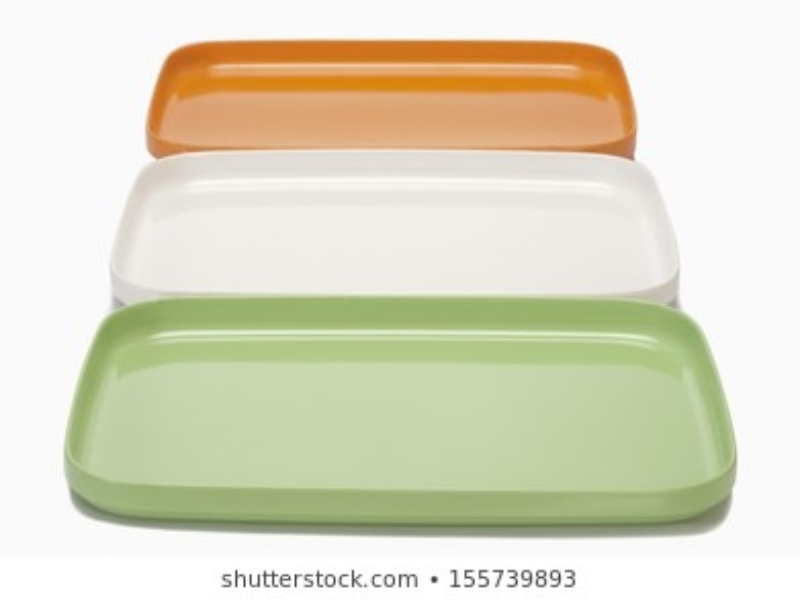plastic-tray: (62, 297, 748, 531), (95, 150, 687, 318), (140, 36, 654, 159)
